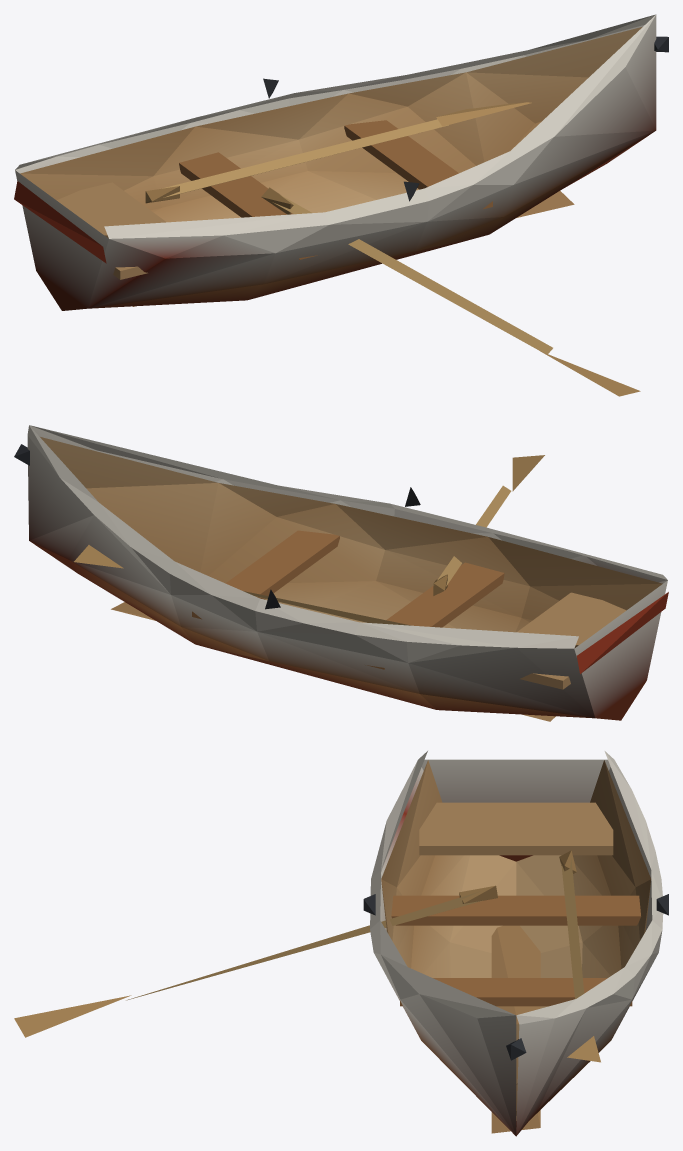
Rendered from river_boat-lod1.glb.
3 renders of one model, top to bottom at view 1: azimuth 30°, elevation 25°; view 2: azimuth 150°, elevation 25°; view 3: azimuth 270°, elevation 25°, orthographic. The views are drawn at different scales.
Parts seen in each view (by area): view 1: river_boat; view 2: river_boat; view 3: river_boat.
Boxes of the visible parts, x1=… form: river_boat: x1=14, y1=14, x2=668, y2=396; river_boat: x1=14, y1=425, x2=668, y2=721; river_boat: x1=14, y1=751, x2=668, y2=1136.
Size of the model in its own units: 3.58 by 0.9738 by 3.2.
